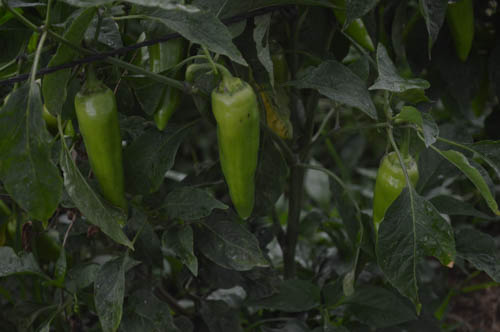ChiliPepper: (207, 80, 263, 223), (71, 84, 128, 214), (135, 23, 185, 135), (367, 148, 422, 243), (443, 1, 480, 63), (334, 7, 379, 57)
